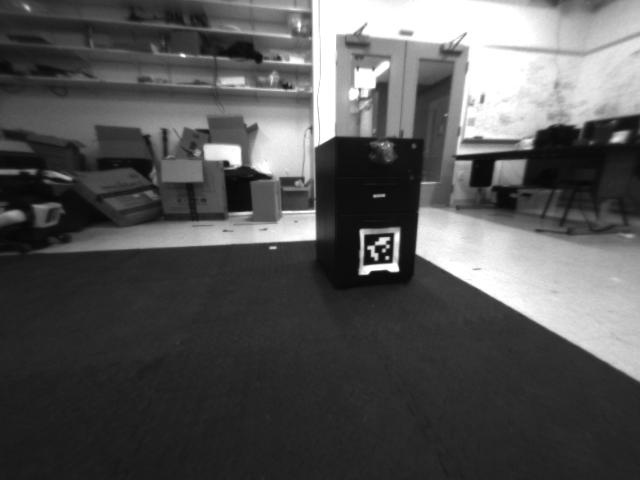drawer: (363, 135, 401, 170)
